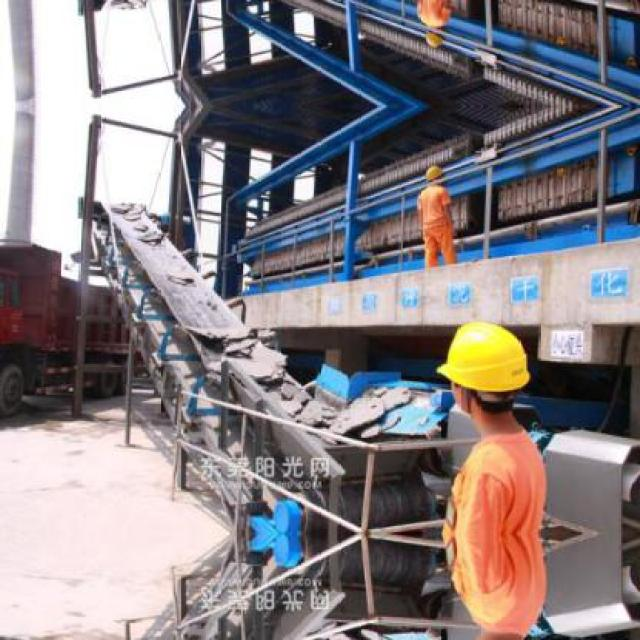helmet: (428, 312, 532, 423), (422, 160, 449, 190), (422, 22, 449, 52)
